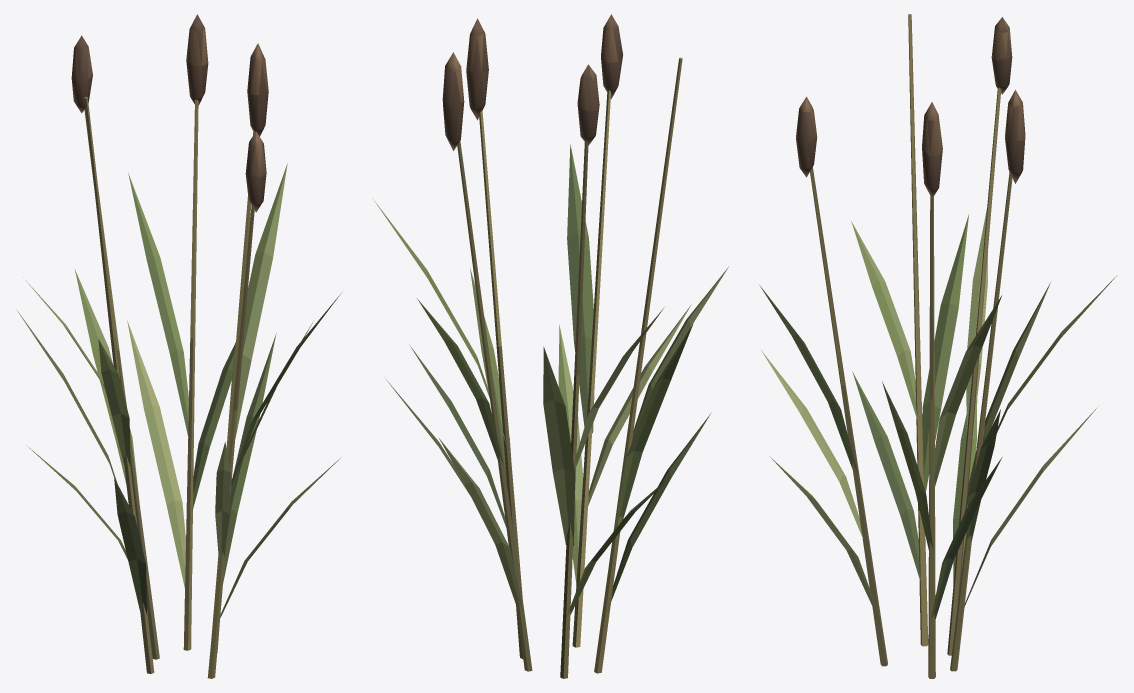
Rendered from shore-reeds.glb.
The picture shows the model from 3 angles, left to right: view 1: azimuth 30°, elevation 25°; view 2: azimuth 150°, elevation 25°; view 3: azimuth 270°, elevation 25°; orthographic projection. The views are drawn at different scales.
Visible parts, largest first — view 1: Reed Leaf folded straps, Reed culms, Reed seed heads; view 2: Reed Leaf folded straps, Reed culms, Reed seed heads; view 3: Reed Leaf folded straps, Reed culms, Reed seed heads.
Boxes of the visible parts, x1=… form: Reed Leaf folded straps: x1=16, y1=163, x2=340, y2=618; Reed culms: x1=84, y1=97, x2=254, y2=678; Reed seed heads: x1=71, y1=14, x2=268, y2=212; Reed Leaf folded straps: x1=373, y1=144, x2=728, y2=615; Reed culms: x1=457, y1=57, x2=682, y2=678; Reed seed heads: x1=442, y1=14, x2=622, y2=150; Reed Leaf folded straps: x1=759, y1=209, x2=1117, y2=619; Reed culms: x1=810, y1=14, x2=1012, y2=678; Reed seed heads: x1=796, y1=17, x2=1025, y2=198.
Size of the model in its own units: 0.5568 by 1.13 by 0.6021.
